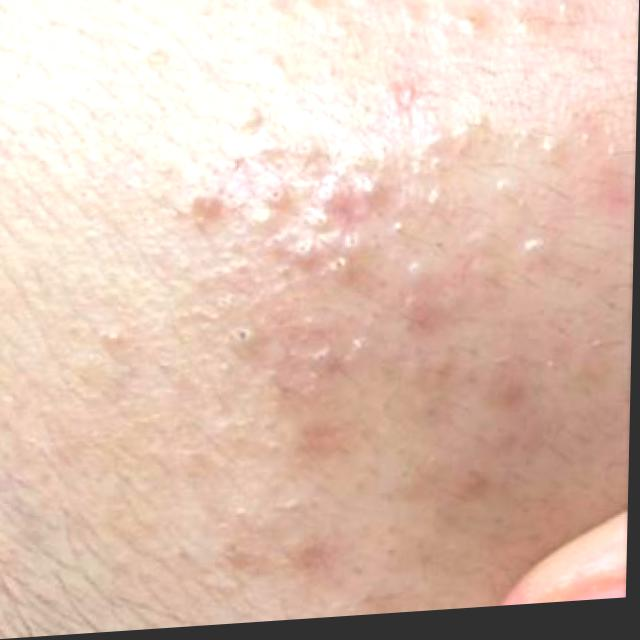8: (442, 452, 496, 522), (183, 184, 236, 237), (487, 375, 550, 414), (293, 536, 331, 585)
blackheads: (288, 415, 356, 464)
dark spot: (267, 232, 371, 300), (201, 310, 266, 372), (393, 257, 431, 331), (301, 180, 346, 238), (506, 232, 554, 283), (225, 99, 268, 144), (376, 212, 419, 256), (296, 346, 337, 392), (453, 16, 494, 52), (459, 224, 494, 260), (266, 183, 291, 216)
